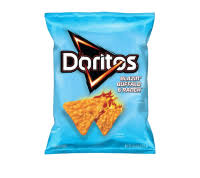Doritos: (42, 12, 161, 151)
